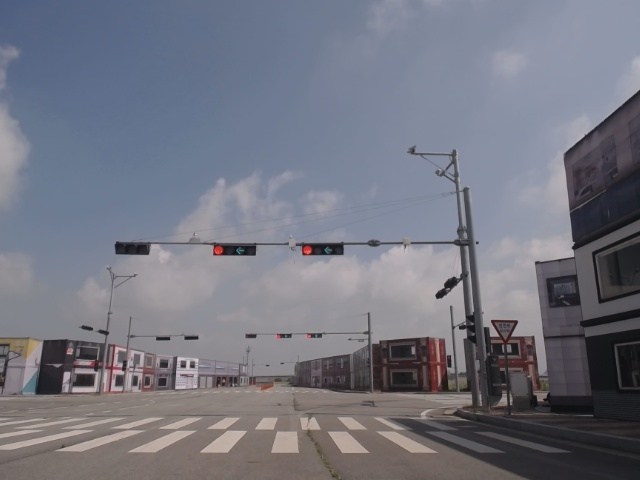left_green_4: (213, 243, 257, 256), (301, 244, 344, 255)
